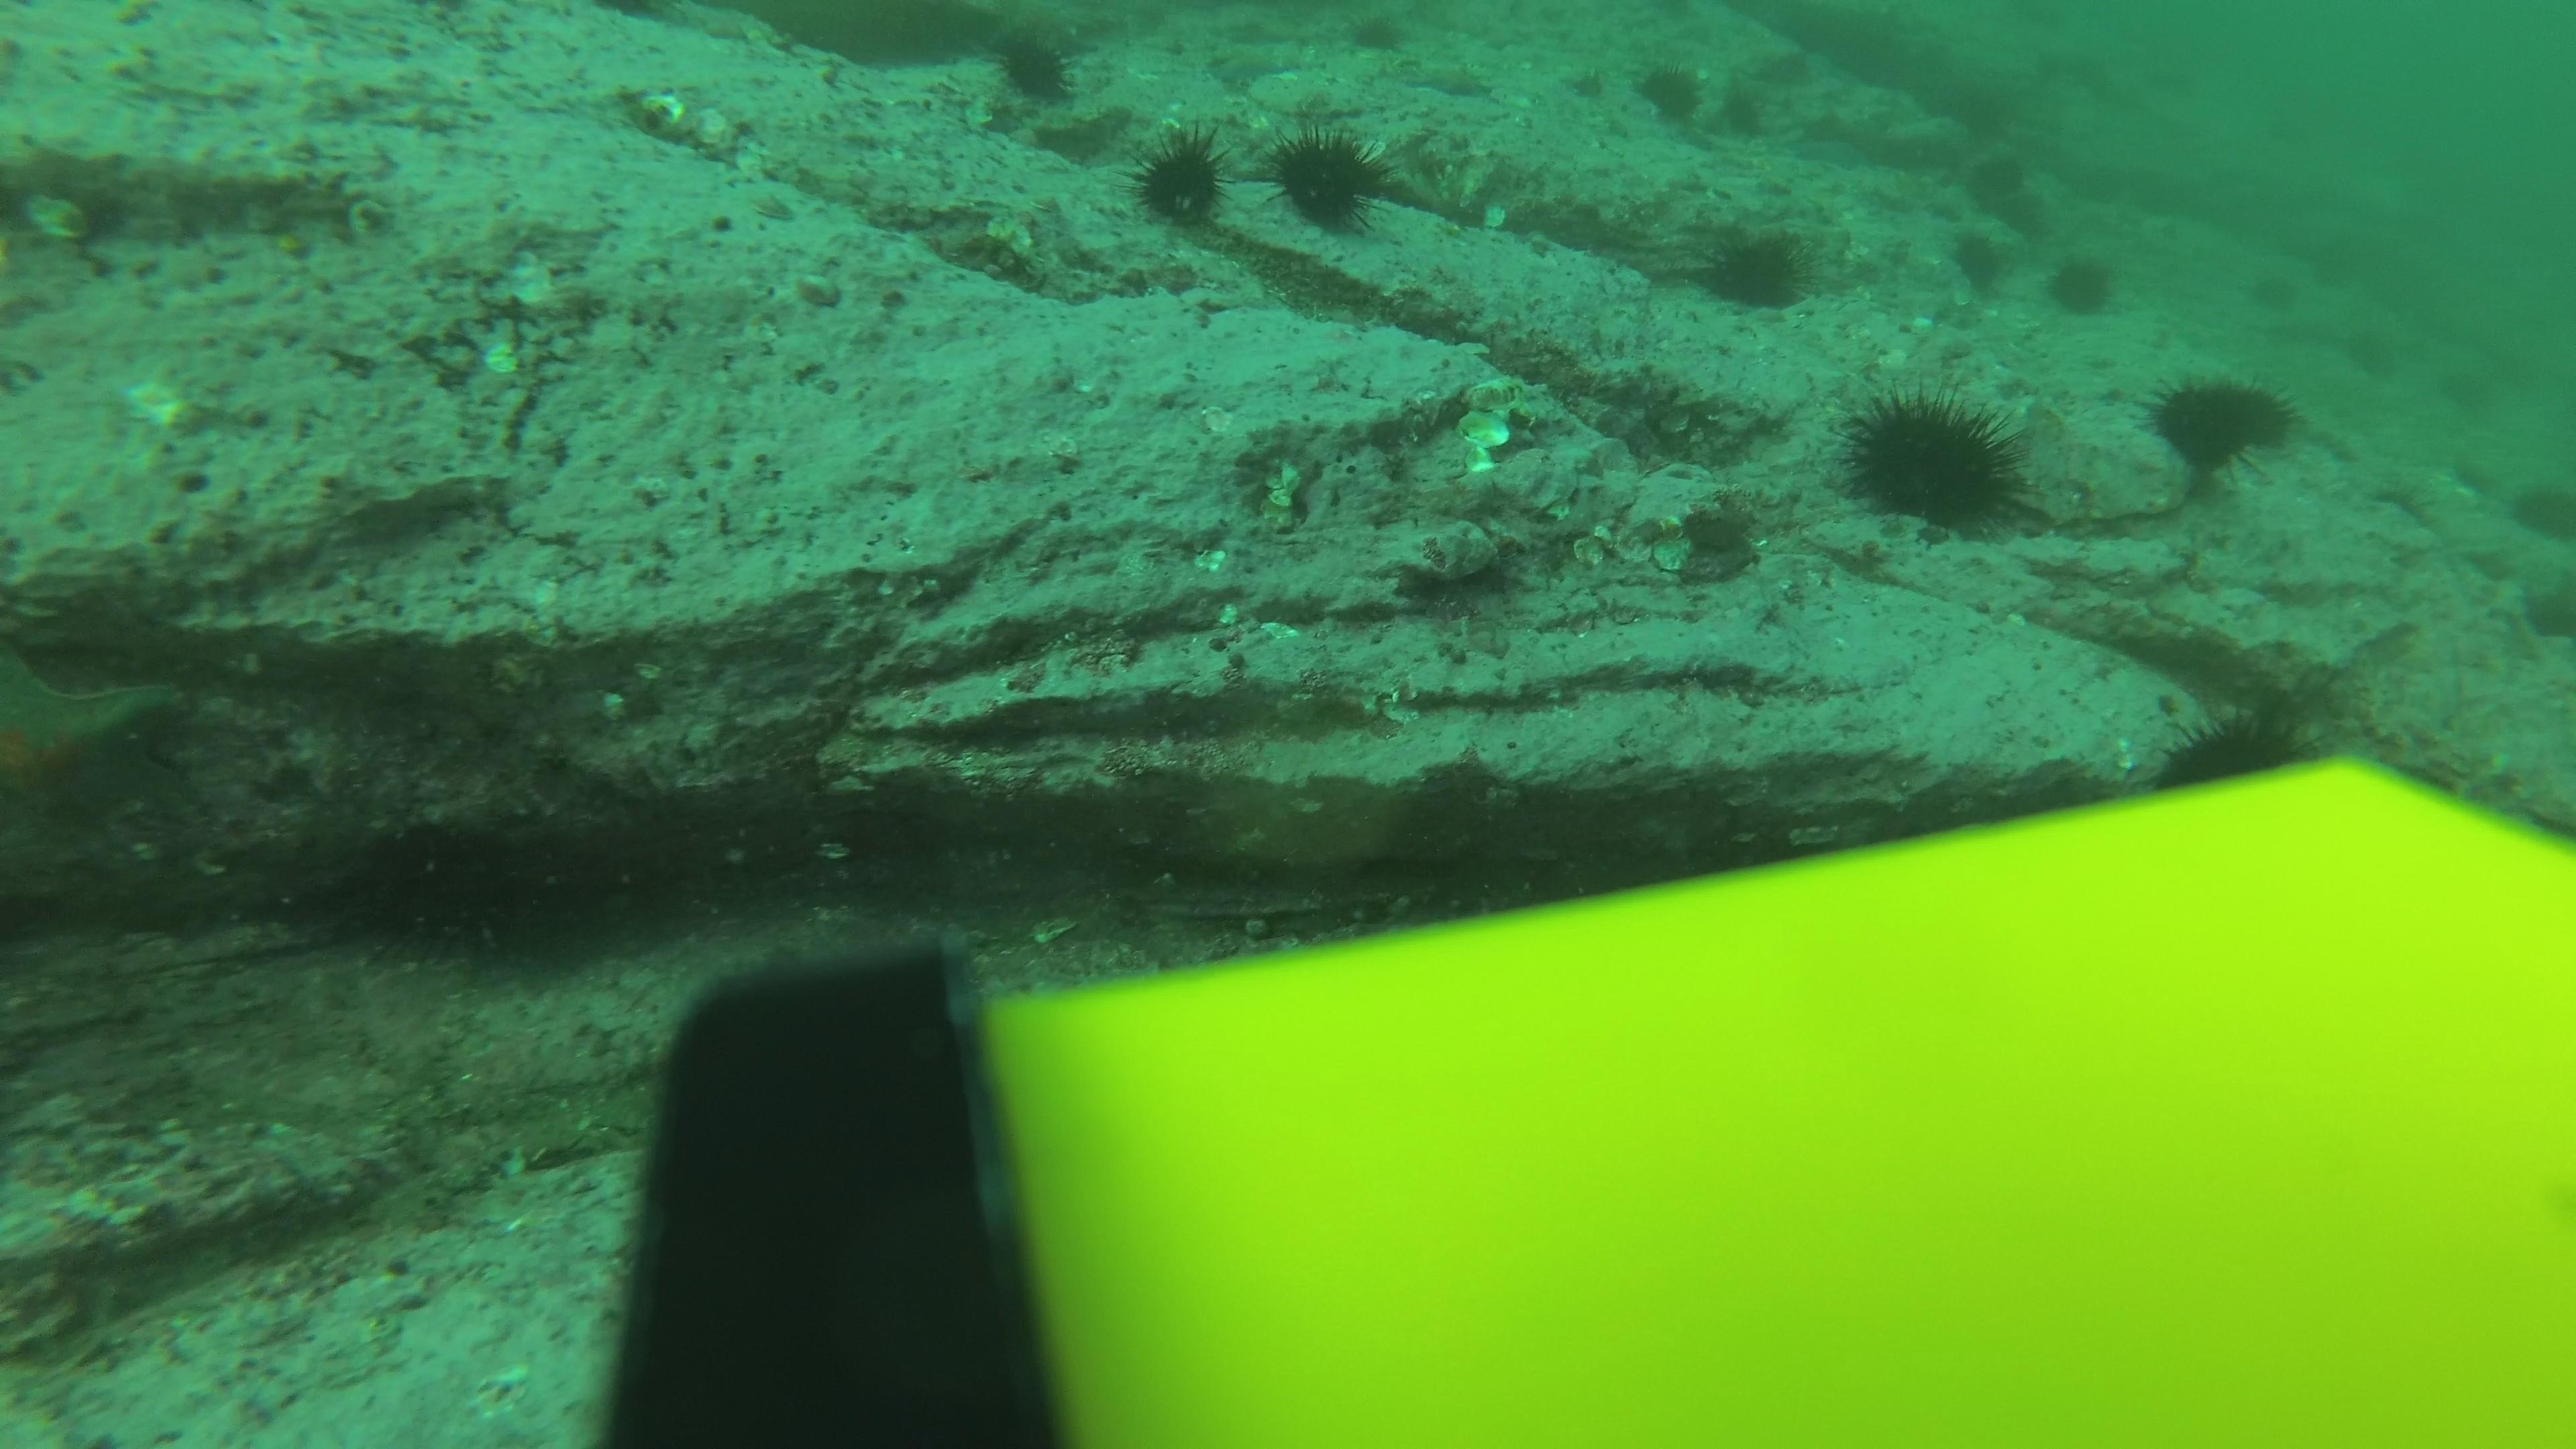echinus: (1833, 379, 2036, 541), (2144, 364, 2300, 479), (2143, 699, 2318, 800), (1260, 120, 1396, 239), (1123, 124, 1238, 237), (1693, 219, 1821, 318), (1626, 51, 1730, 142), (980, 28, 1085, 111), (2040, 246, 2125, 322), (1943, 225, 2015, 297), (1967, 133, 2036, 196), (2235, 255, 2304, 318), (2339, 326, 2408, 389), (2507, 478, 2576, 541), (2364, 474, 2433, 538)
starfish: (0, 630, 195, 860), (1391, 55, 1500, 104)
